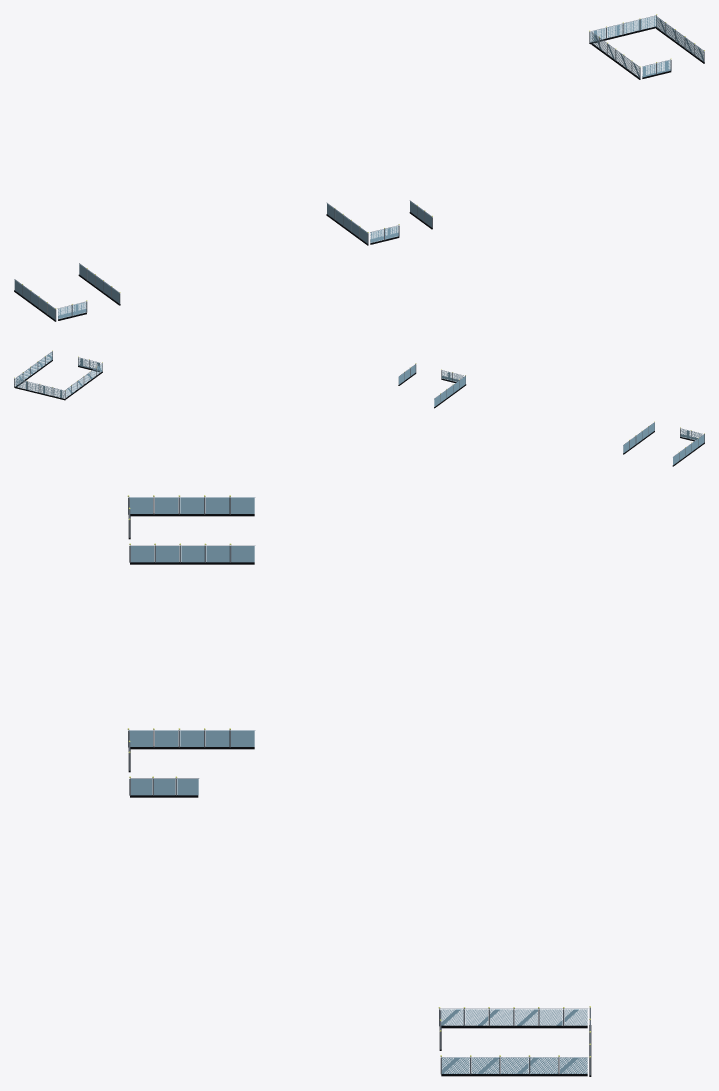
File: tt_struct_guards_cores_f3_r2c.glb
The picture shows the model from 3 angles, top to bottom: view 1: azimuth 30°, elevation 25°; view 2: azimuth 150°, elevation 25°; view 3: azimuth 270°, elevation 25°; orthographic projection. The views are drawn at different scales.
Visible parts, largest first — view 1: Guard_Pane_Scissor, Guard_Kerb, Guard_Posts; view 2: Guard_Pane_Scissor, Guard_Kerb, Guard_Posts, Guard_Rail; view 3: Guard_Pane_Scissor, Guard_Kerb, Guard_Posts, Guard_Rail.
Part boxes in pixels (box(x1,y1,x2,y2)): Guard_Pane_Scissor: box(14, 16, 703, 319); Guard_Kerb: box(14, 26, 704, 321); Guard_Posts: box(22, 15, 704, 320); Guard_Pane_Scissor: box(14, 352, 704, 465); Guard_Kerb: box(14, 360, 704, 466); Guard_Posts: box(14, 351, 704, 460); Guard_Rail: box(14, 351, 704, 456); Guard_Pane_Scissor: box(129, 497, 587, 1073); Guard_Kerb: box(128, 514, 591, 1076); Guard_Posts: box(128, 497, 590, 1075); Guard_Rail: box(129, 497, 590, 1057).
Size of what is drawn, in the model's own units: 67.49 by 1.16 by 23.54.
Materials: 5 (4 with a texture image).
